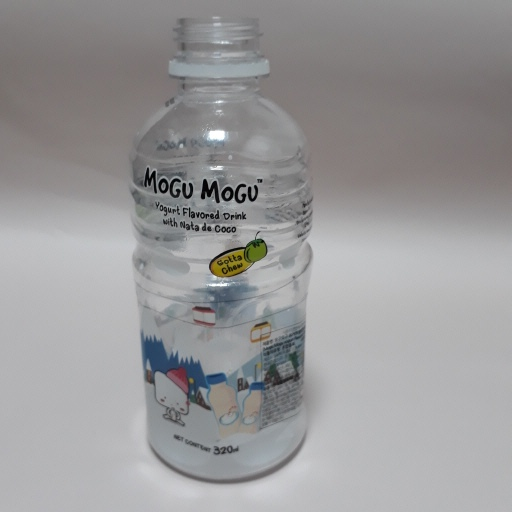Plastic_0: (128, 15, 323, 479)
